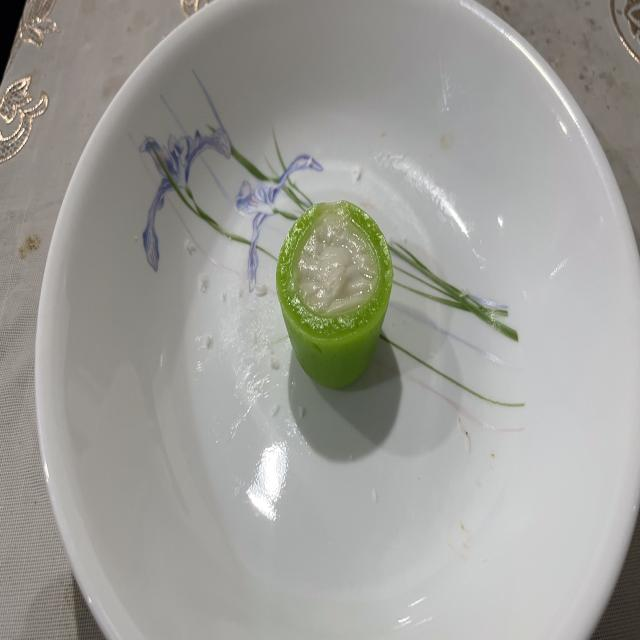nona-manis: (276, 202, 392, 389)
